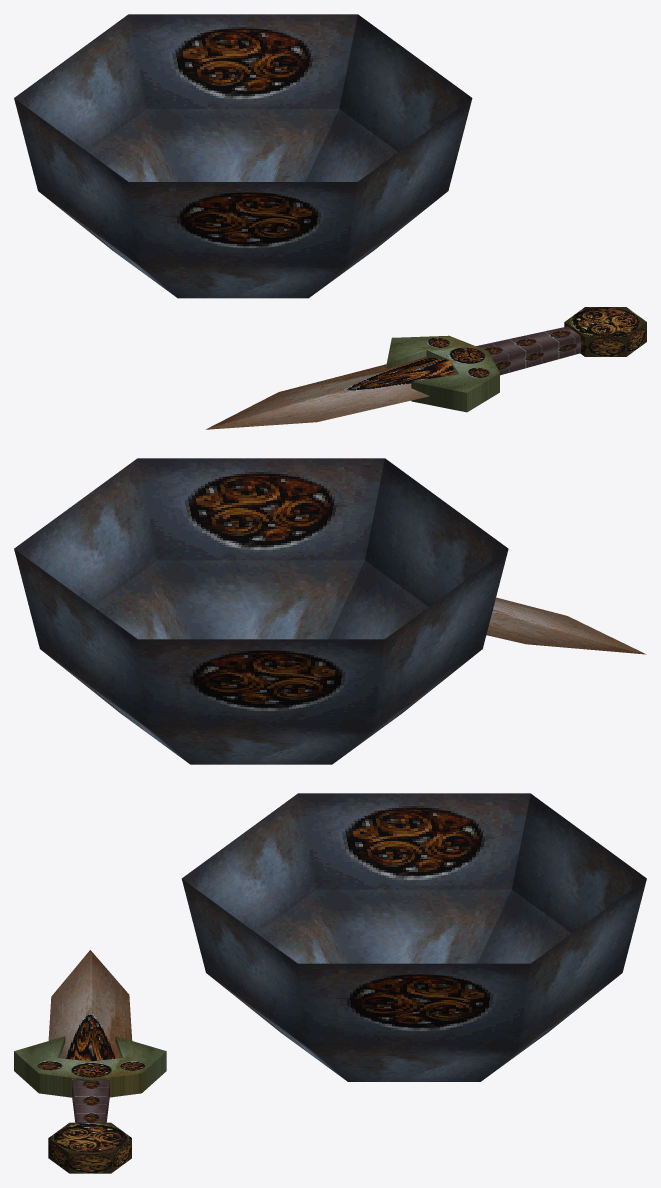
File: SacBowl1.fbx
3 views of the same model, one above another, from view 1: azimuth 30°, elevation 25°; view 2: azimuth 150°, elevation 25°; view 3: azimuth 270°, elevation 25° (orthographic). The views are drawn at different scales.
Parts seen in each view (by area): view 1: SACBOWL1; view 2: SACBOWL1; view 3: SACBOWL1.
Boxes of the visible parts, x1,y1,x2,y2 form: SACBOWL1: (14,14,646,429); SACBOWL1: (14,458,646,764); SACBOWL1: (14,793,646,1173).
Bounding box in the file's own units: 3.12 × 1.22 × 3.91.
